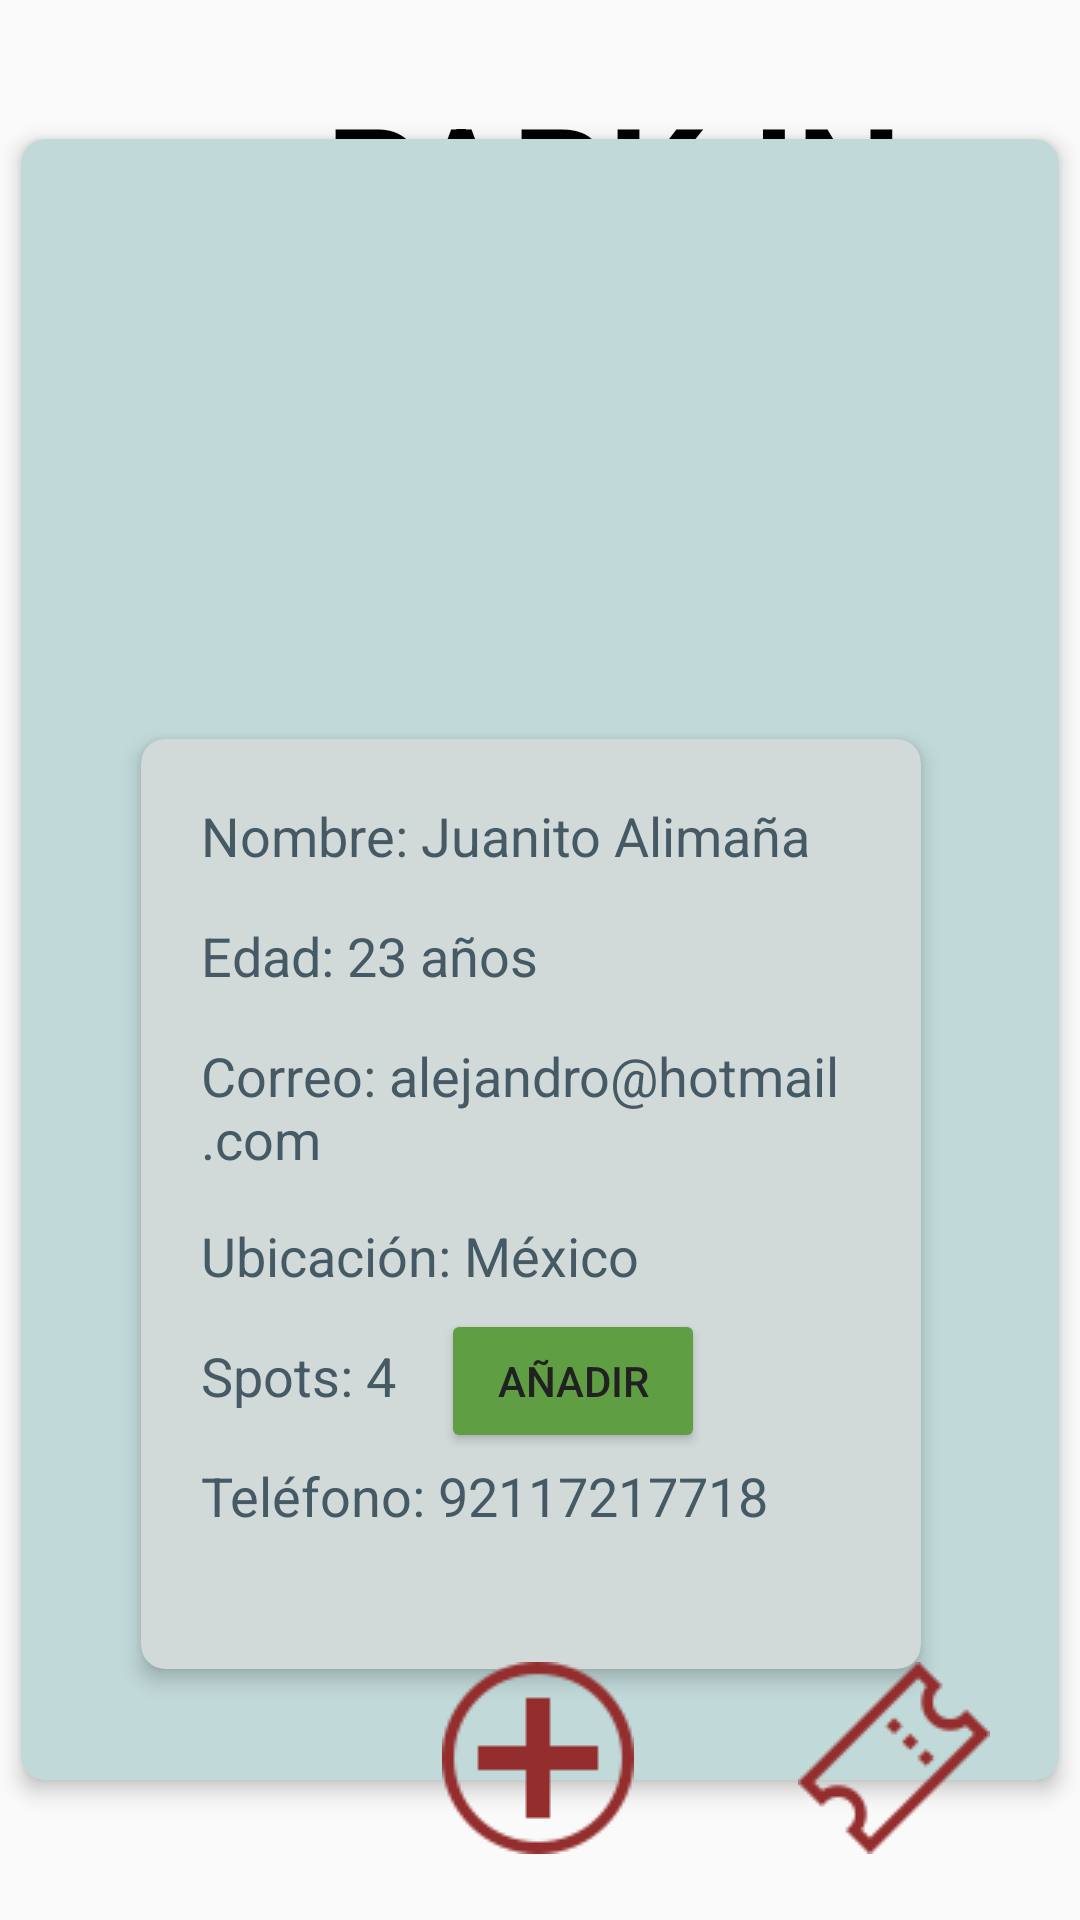

Screen size 1080w x 1920h. Icon name, then its center in pixels as (x=x, y=y):
circuloplus: (x=538, y=1758)
entradas: (x=894, y=1758)
